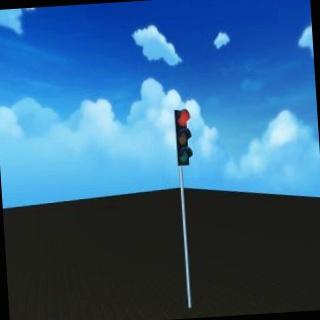sinalRed: (172, 107, 193, 169)
